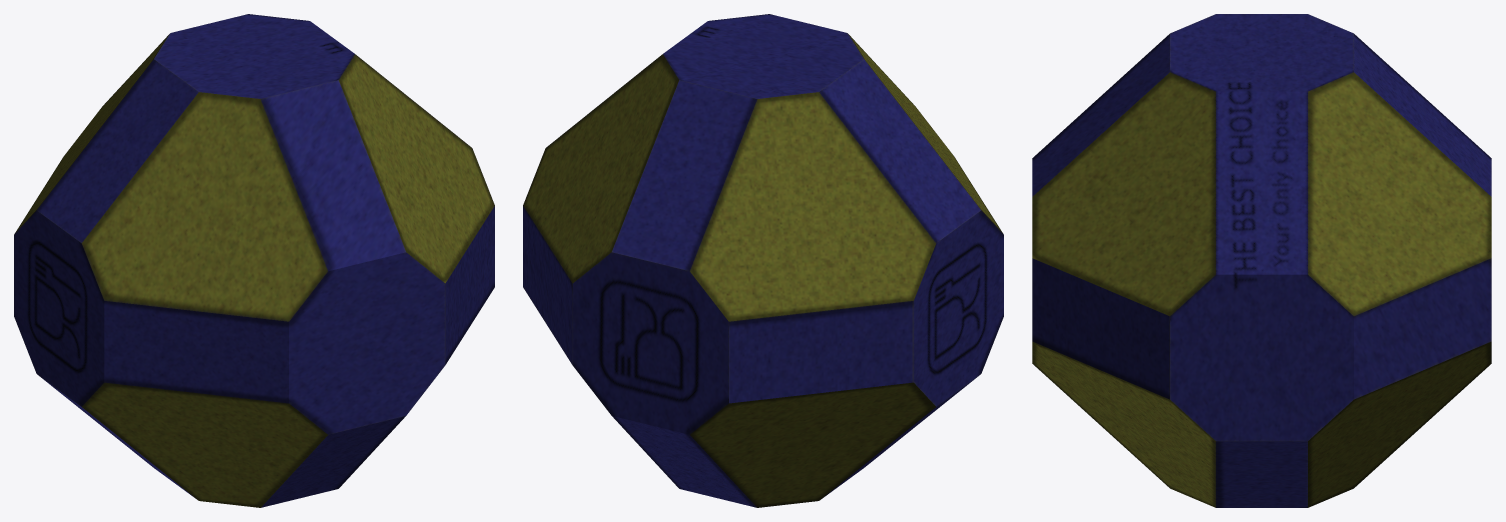
The model's file is gourmet-food.glb.
The picture shows the model from 3 angles, left to right: view 1: azimuth 30°, elevation 25°; view 2: azimuth 150°, elevation 25°; view 3: azimuth 270°, elevation 25°; orthographic projection.
Visible parts, largest first — view 1: gourmet-food; view 2: gourmet-food; view 3: gourmet-food.
Part boxes in pixels (bbox=[...]): gourmet-food: bbox=[14, 14, 494, 507]; gourmet-food: bbox=[523, 14, 1003, 507]; gourmet-food: bbox=[1032, 14, 1491, 507].
Bounding box in the file's own units: 1 × 1 × 1.
1 material, 1 textured.
